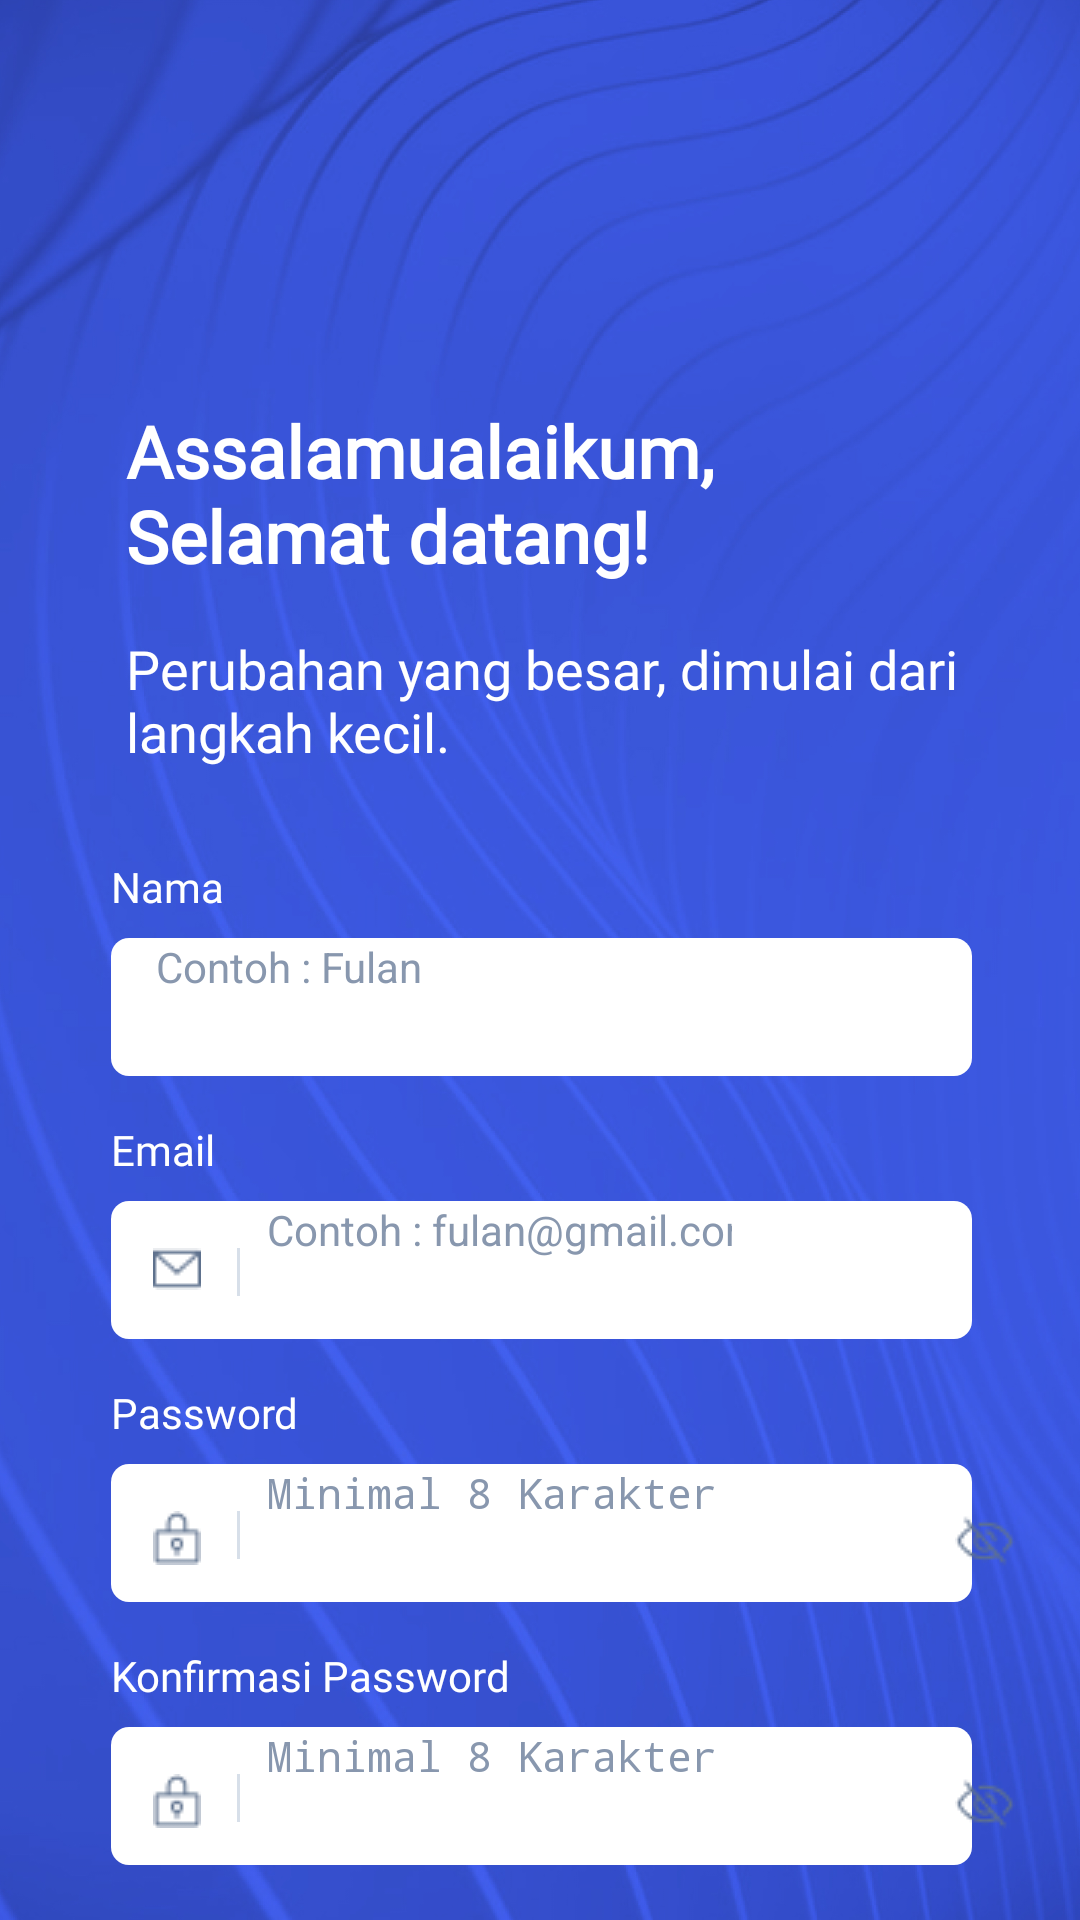

Named icons in this screenshot (1080px×1920px) and their centers, (x,y):
eye: (985,1541), (985,1804)
